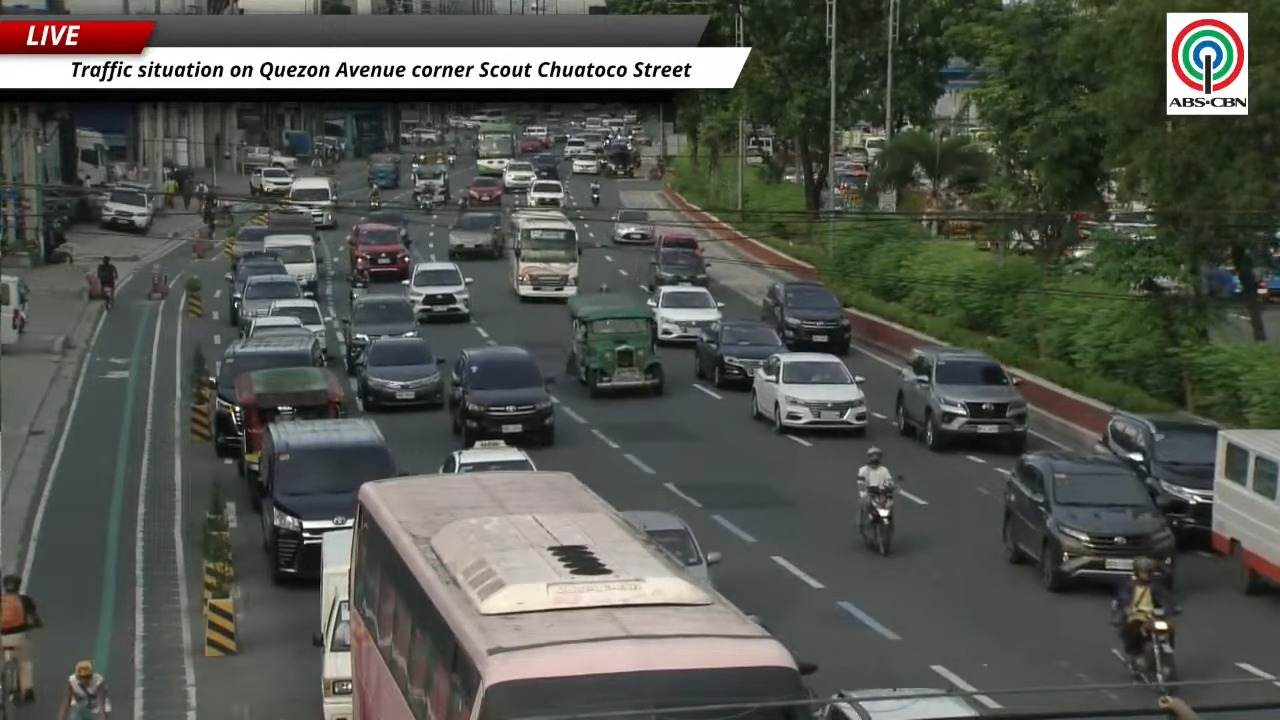bus: (351, 471, 809, 719), (1211, 429, 1279, 593), (507, 209, 580, 299), (477, 123, 516, 175)
car: (1001, 450, 1175, 591), (252, 418, 396, 582), (1099, 411, 1219, 532), (894, 347, 1027, 452), (209, 335, 324, 456), (447, 346, 555, 447), (751, 352, 867, 433), (621, 511, 720, 585), (761, 280, 851, 355), (357, 337, 443, 410), (694, 320, 786, 387), (342, 294, 418, 375), (822, 688, 981, 719), (224, 253, 288, 325), (647, 286, 723, 342), (404, 263, 471, 321), (347, 222, 409, 282), (268, 298, 327, 355), (438, 439, 536, 473), (238, 274, 303, 325), (447, 210, 505, 260), (100, 188, 153, 233), (649, 249, 708, 289), (266, 207, 320, 242), (358, 209, 409, 244), (230, 225, 272, 267), (611, 209, 654, 244), (240, 316, 308, 338), (249, 166, 294, 194), (466, 176, 503, 206), (654, 231, 702, 253), (527, 180, 564, 207), (503, 161, 535, 192), (532, 153, 559, 179), (564, 136, 593, 158), (523, 125, 550, 148), (581, 131, 605, 155), (570, 155, 599, 174), (519, 137, 546, 154), (447, 114, 471, 128), (551, 127, 569, 144)
motorcycle: (1112, 608, 1175, 694), (860, 485, 895, 556), (416, 192, 434, 210), (103, 284, 114, 310), (591, 187, 599, 206), (369, 197, 380, 209), (447, 153, 456, 166)
truck: (313, 529, 353, 719), (476, 125, 517, 176), (76, 129, 109, 185), (242, 146, 296, 171), (281, 129, 313, 159)
